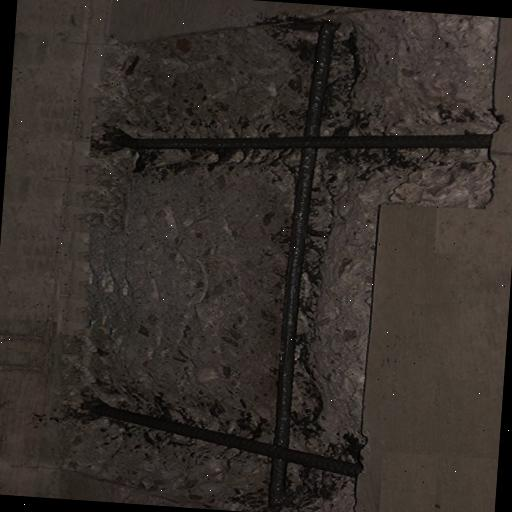spalling: (57, 18, 499, 512)
